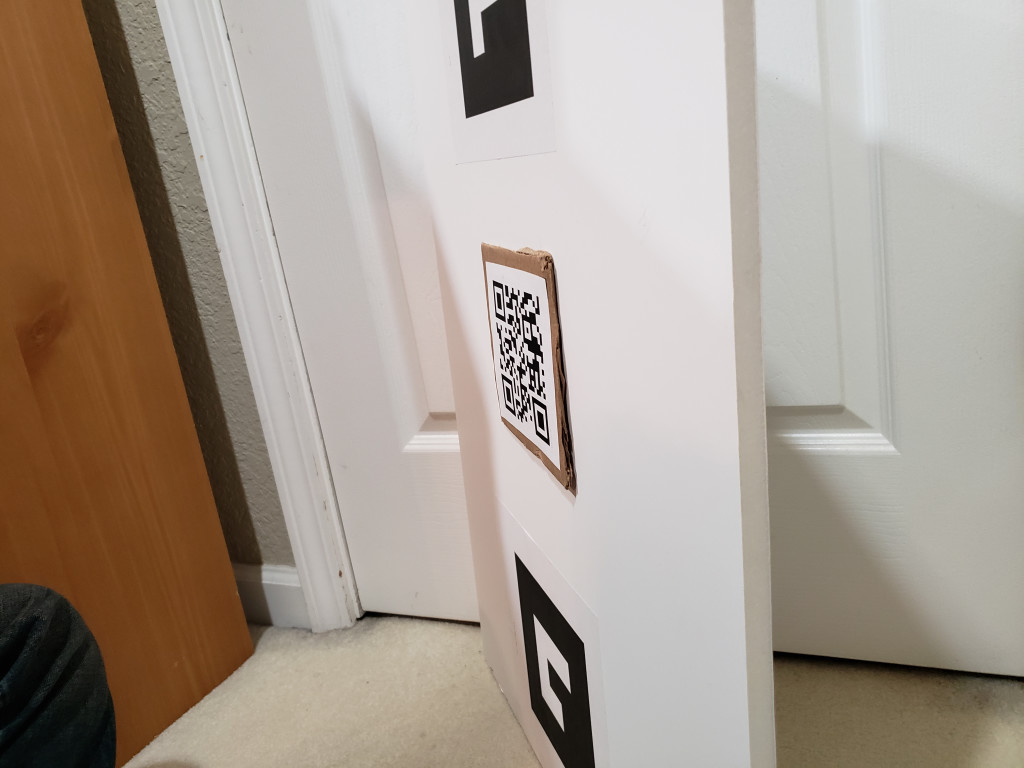QR_CODE: (483, 271, 573, 456)
